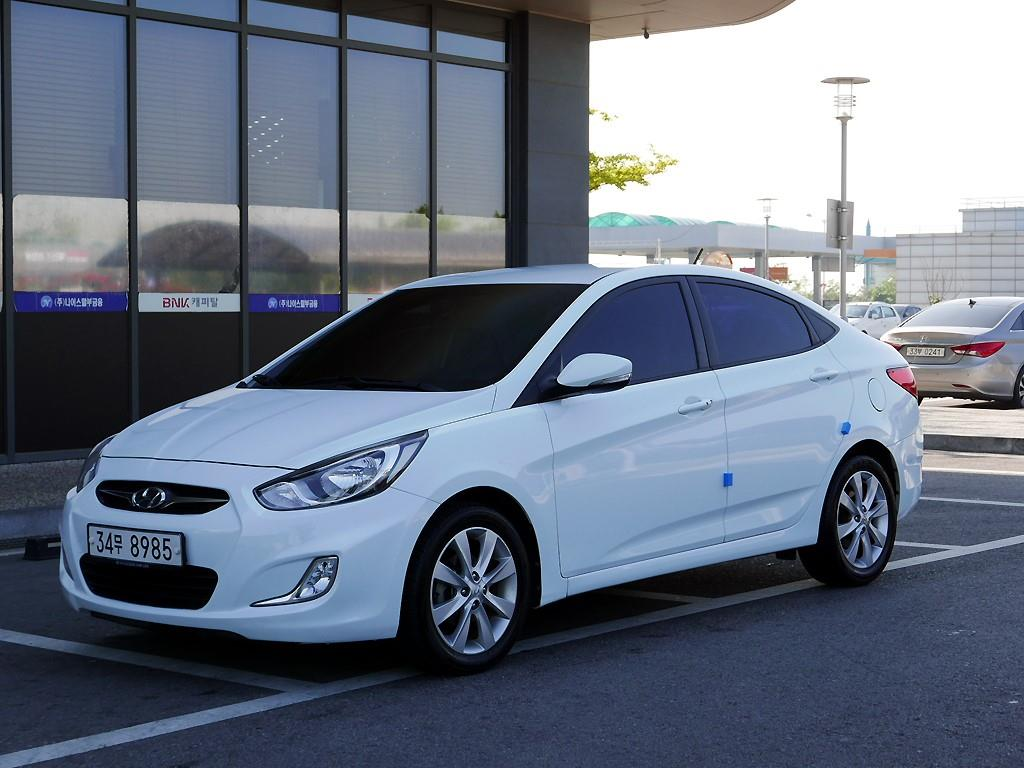plate: (88, 526, 182, 566)
